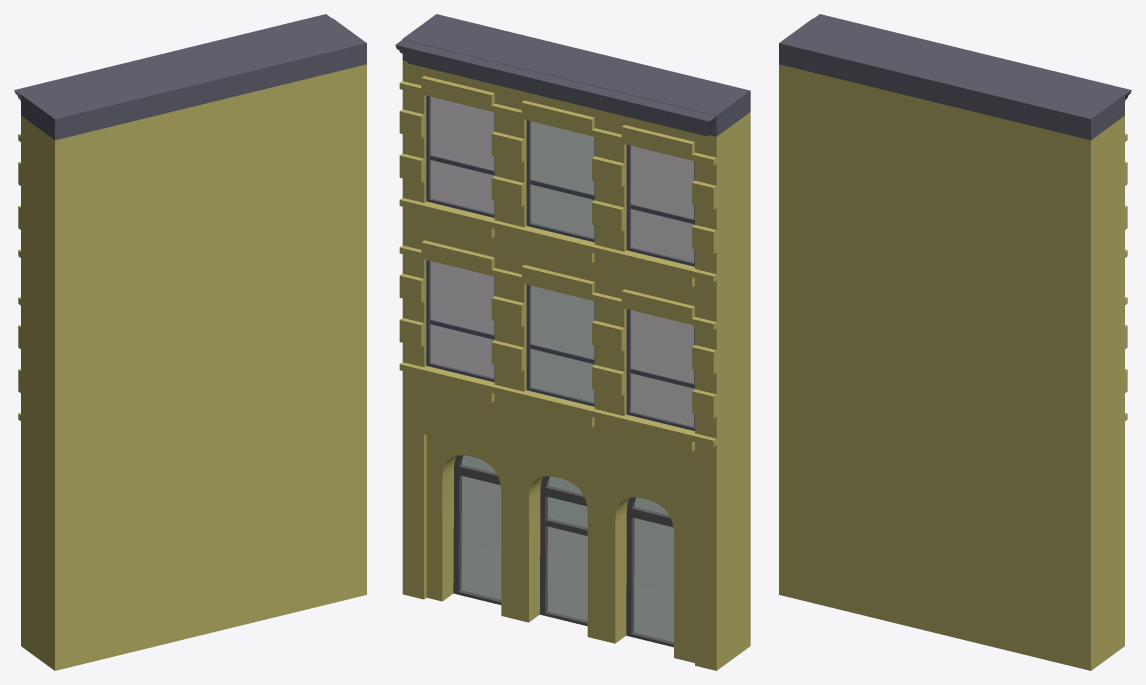
The picture shows the model from 3 angles, left to right: view 1: azimuth 30°, elevation 25°; view 2: azimuth 150°, elevation 25°; view 3: azimuth 330°, elevation 25°; orthographic projection.
Visible parts, largest first — view 1: HDM002; view 2: HDM002; view 3: HDM002.
Part boxes in pixels (x1,y1,x2,y2): HDM002: (14,14,366,670); HDM002: (395,14,750,670); HDM002: (779,14,1131,670).
Bounding box in the file's own units: 315 × 532 × 71.46.
